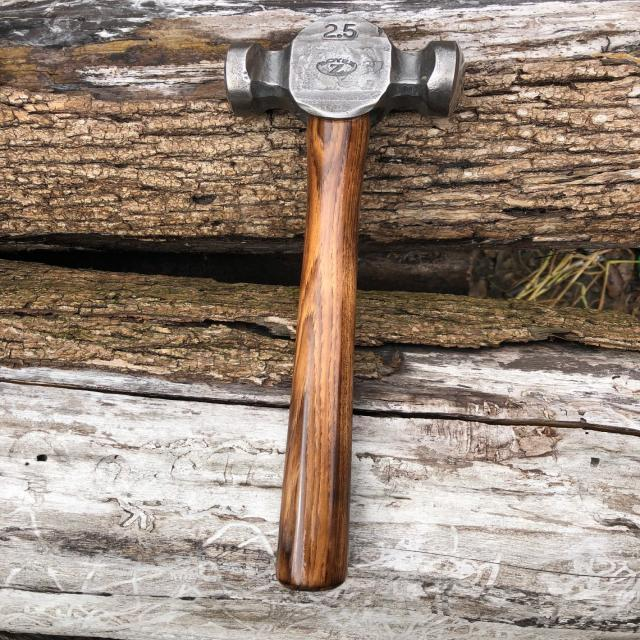hammer: (214, 10, 469, 600)
